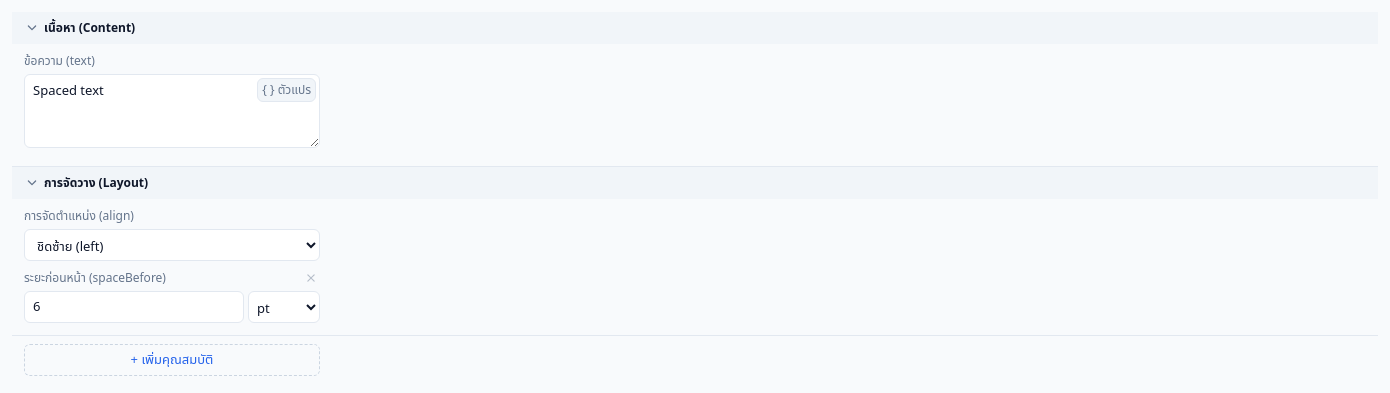
Test: PropertiesPanel and block property editors › ParagraphProps spaceBefore shows number 6 + unit pt for spaceBefore: 6pt and picking cm writes 0.21cm to the block
Expected: the field labelled "ระยะก่อนหน้า (spaceBefore)" holds "6", [24,291,244,323]
Select "cm" in the dropdown named "Space before unit" at (284, 307), box [248,291,320,323]
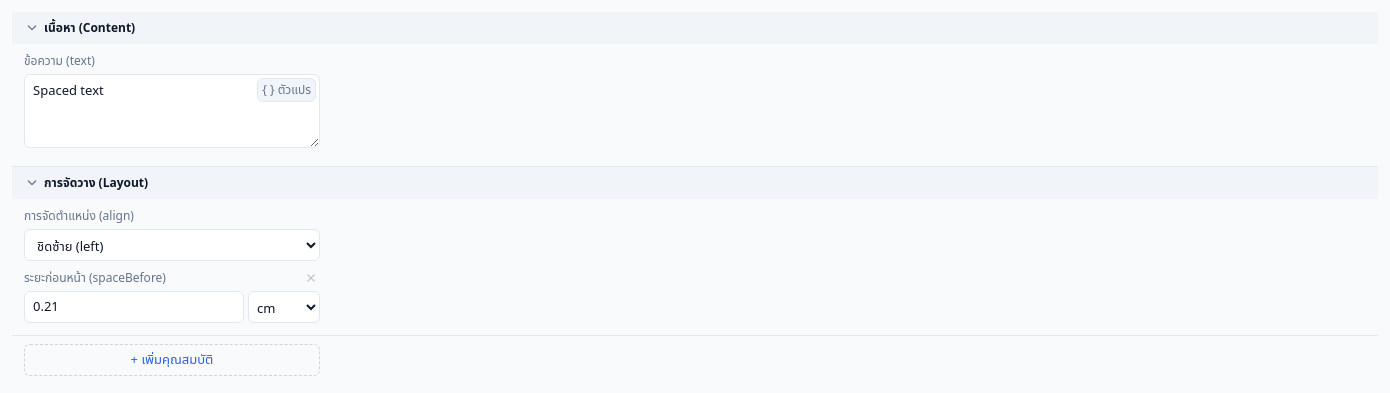
Result: the field labelled "ระยะก่อนหน้า (spaceBefore)" holds "0.21" at [24,291,244,323]
